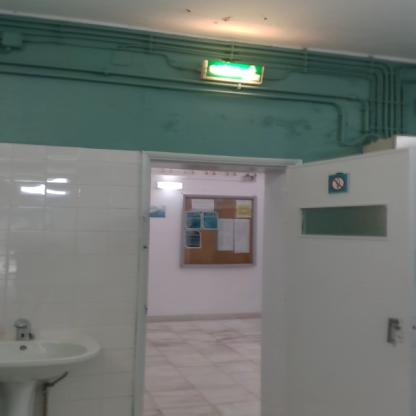open: (132, 140, 416, 416)
